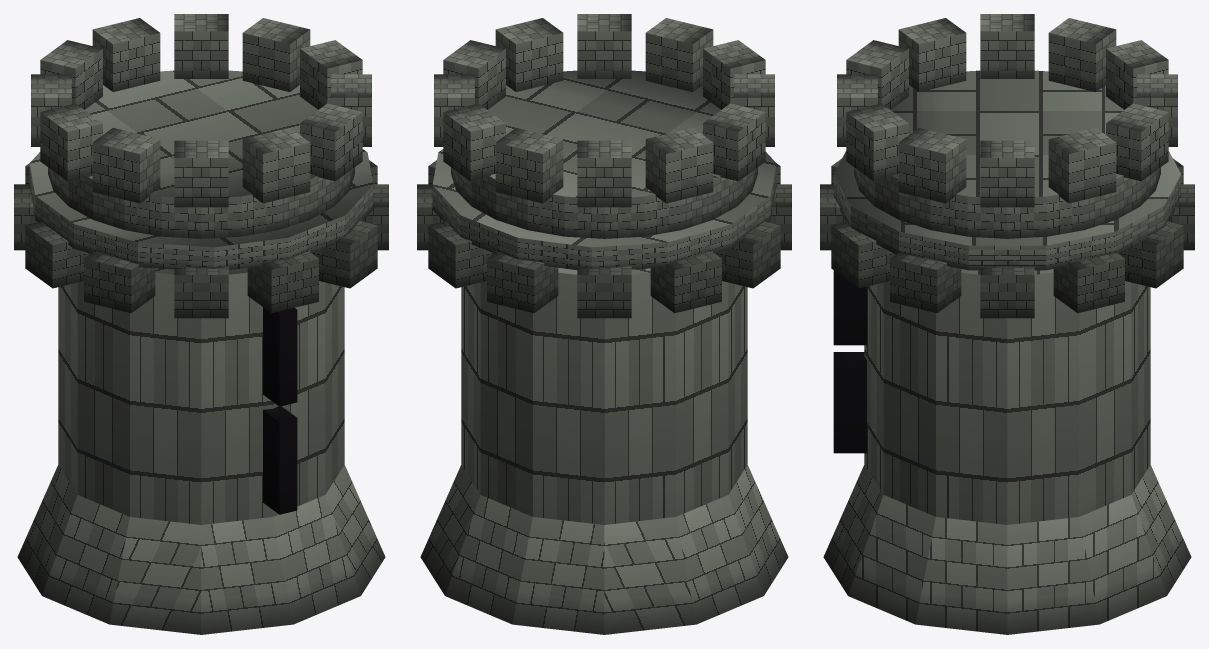
File: tower_round_dark.gltf
3 views of the same model, side by side, from view 1: azimuth 30°, elevation 25°; view 2: azimuth 150°, elevation 25°; view 3: azimuth 270°, elevation 25° (orthographic).
Visible parts, largest first — view 1: tower_round_dark; view 2: tower_round_dark; view 3: tower_round_dark.
Part boxes in pixels (x1,y1,x2,y2): tower_round_dark: (14,14,388,634); tower_round_dark: (417,14,791,634); tower_round_dark: (820,14,1194,634).
Size of the model in its own units: 1.1 by 1.53 by 1.1.
Materials: 1 (1 with a texture image).
